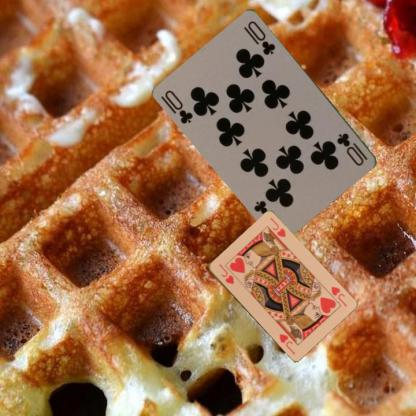10c: (158, 87, 195, 126), (335, 130, 369, 168)
Jh: (328, 284, 349, 308), (216, 261, 235, 286)
